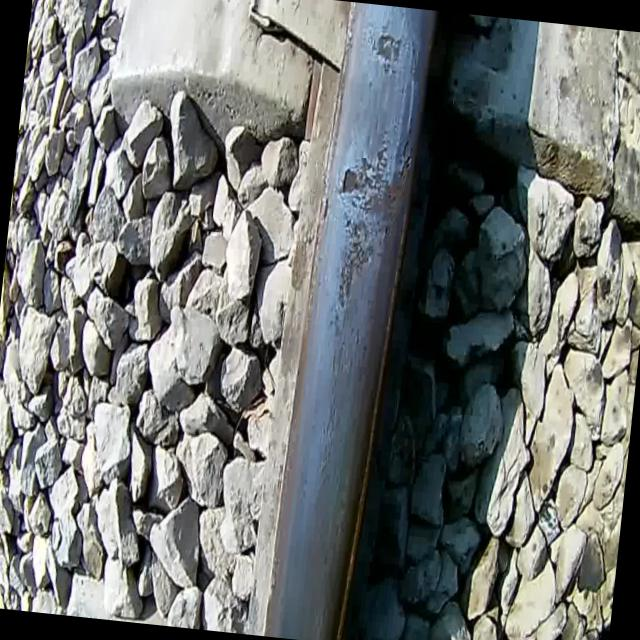Cracks: (396, 30, 426, 167)
Grooves: (302, 322, 356, 525)
Squats: (316, 124, 422, 330), (358, 12, 412, 82)
